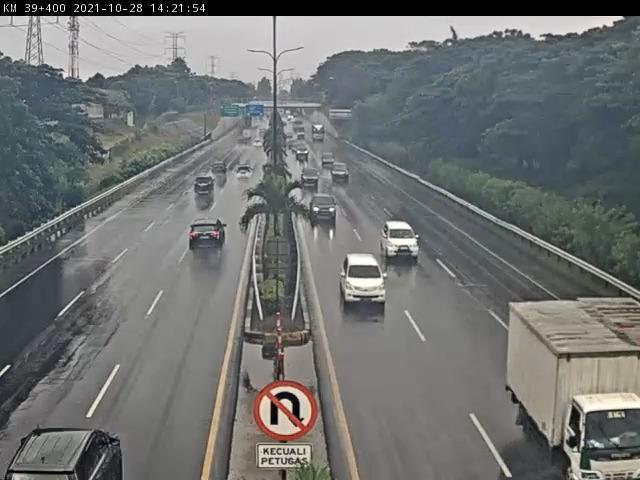car: (340, 255, 387, 307), (381, 222, 422, 262), (188, 219, 228, 256), (309, 193, 339, 225), (192, 176, 215, 200), (233, 165, 257, 185), (301, 167, 322, 187), (330, 161, 350, 181), (209, 160, 229, 179), (295, 144, 312, 163), (321, 150, 337, 168), (250, 139, 266, 152), (235, 134, 249, 148)
truck: (508, 299, 640, 477)
